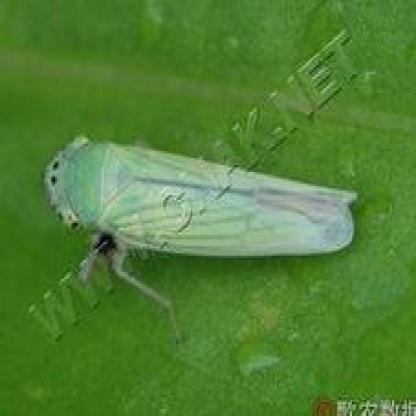Green-Leafhopper: (41, 129, 357, 342)
